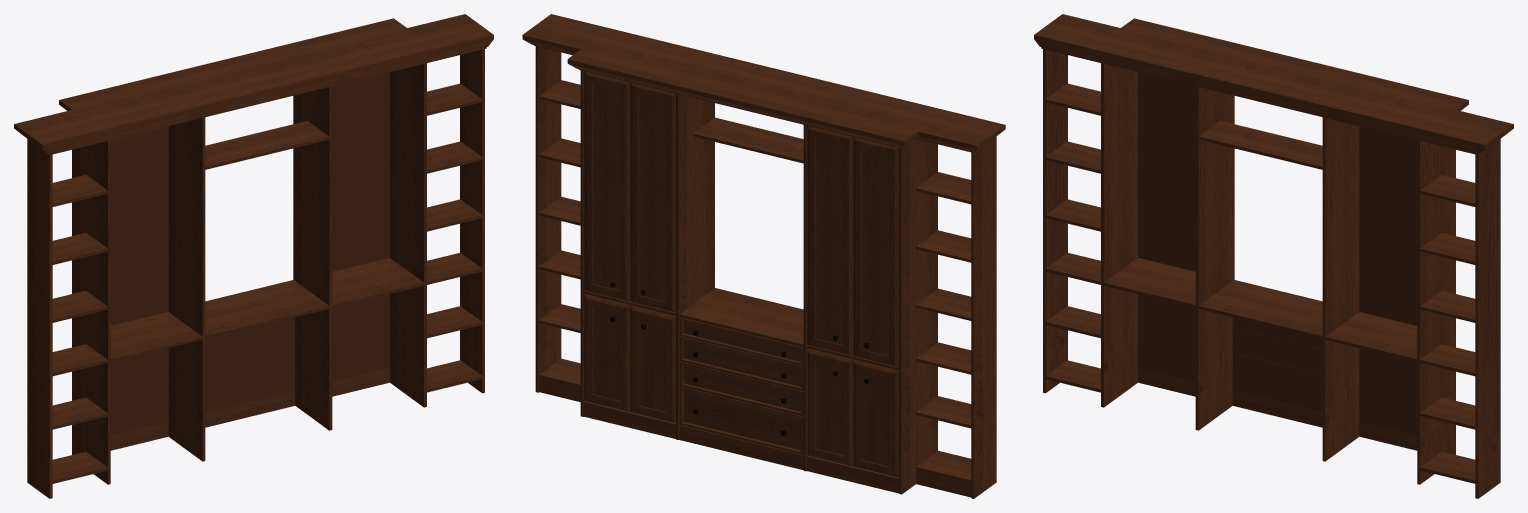
Rendered from shugui.fbx.
The picture shows the model from 3 angles, left to right: view 1: azimuth 30°, elevation 25°; view 2: azimuth 150°, elevation 25°; view 3: azimuth 330°, elevation 25°; orthographic projection.
Parts seen in each view (by area): view 1: shugui; view 2: shugui; view 3: shugui.
Boxes of the visible parts, bbox=[...] form: shugui: bbox=[14, 14, 493, 498]; shugui: bbox=[522, 14, 1005, 498]; shugui: bbox=[1034, 14, 1513, 498].
Bounding box in the file's own units: 316 × 238 × 50.84.
